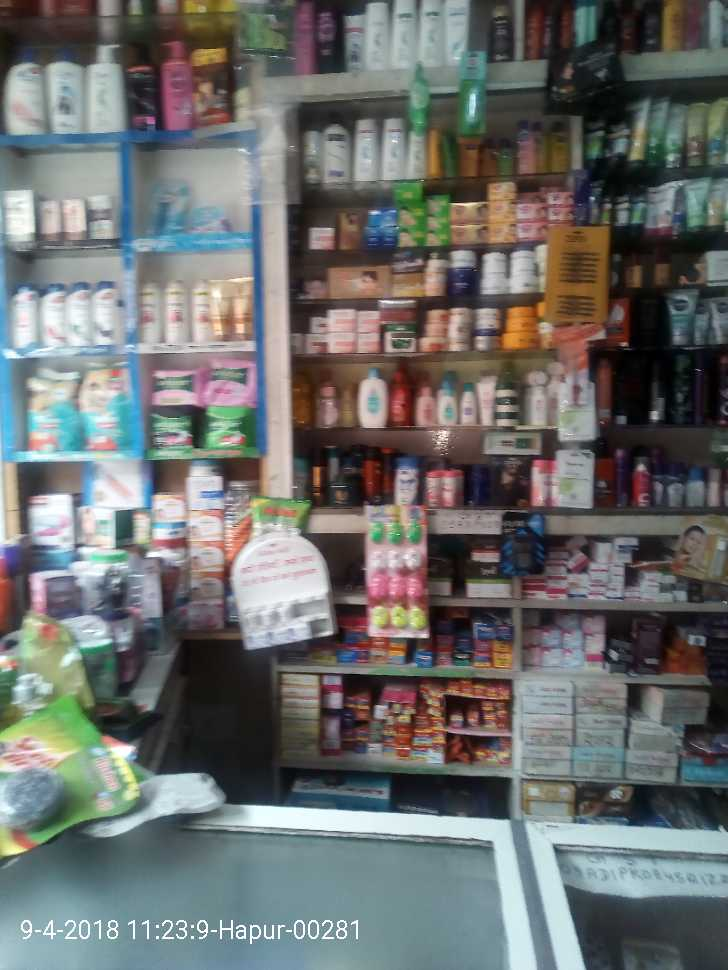venus: (143, 183, 186, 236), (188, 205, 229, 235)
